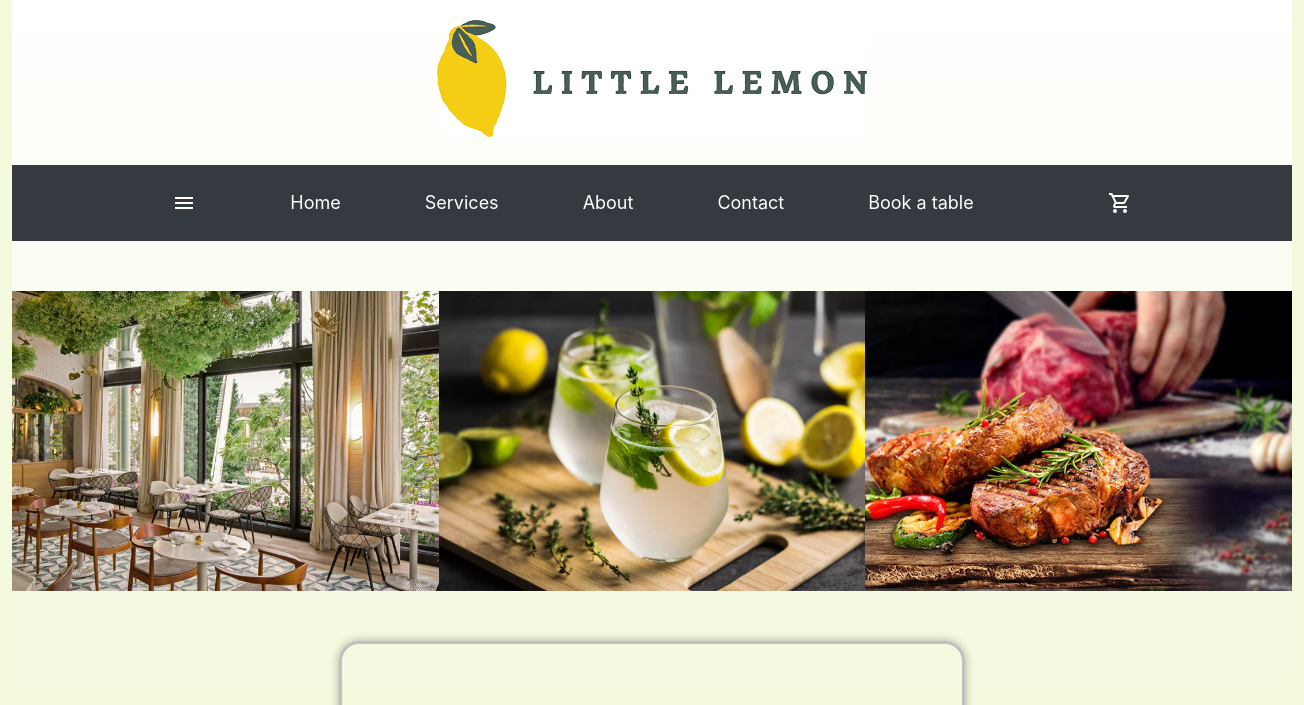
Test: adds item to cart and updates badge count
Click the button named "shopping cart" at x=1120, y=203, box [1100,183,1140,223]
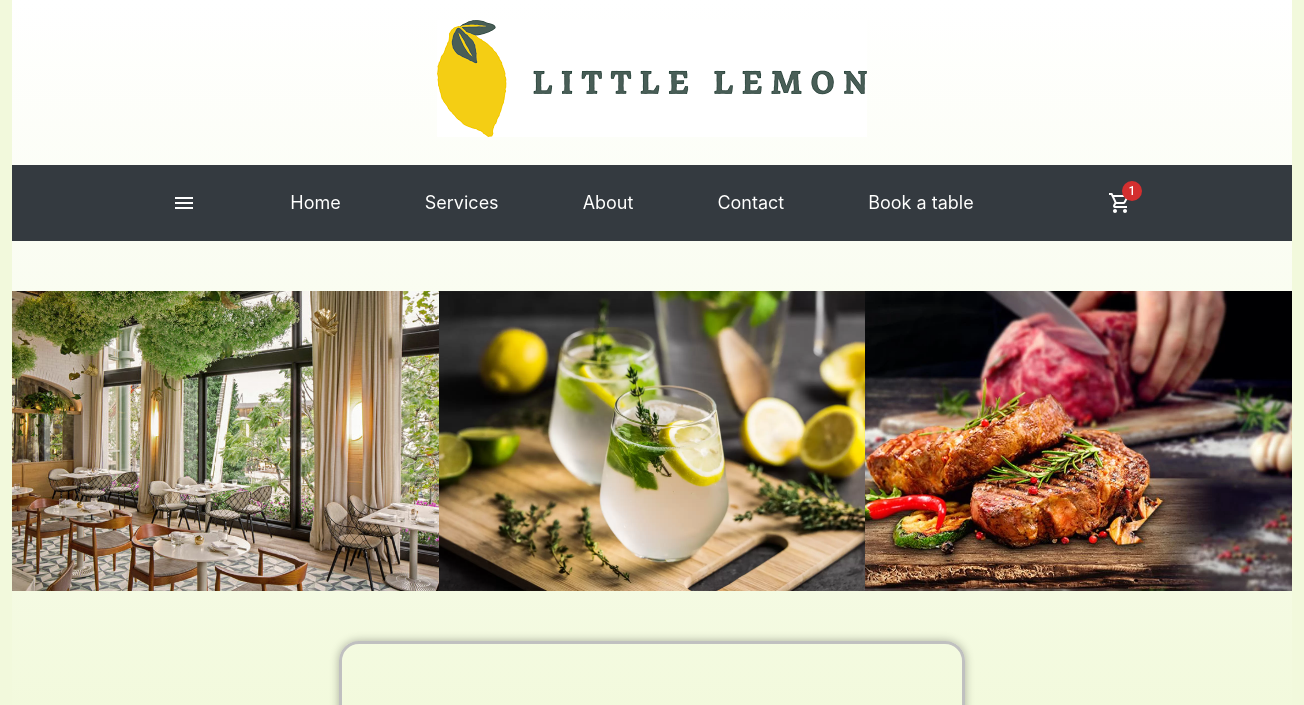
Expected: the text "1" is shown, [1122,181,1142,201]
